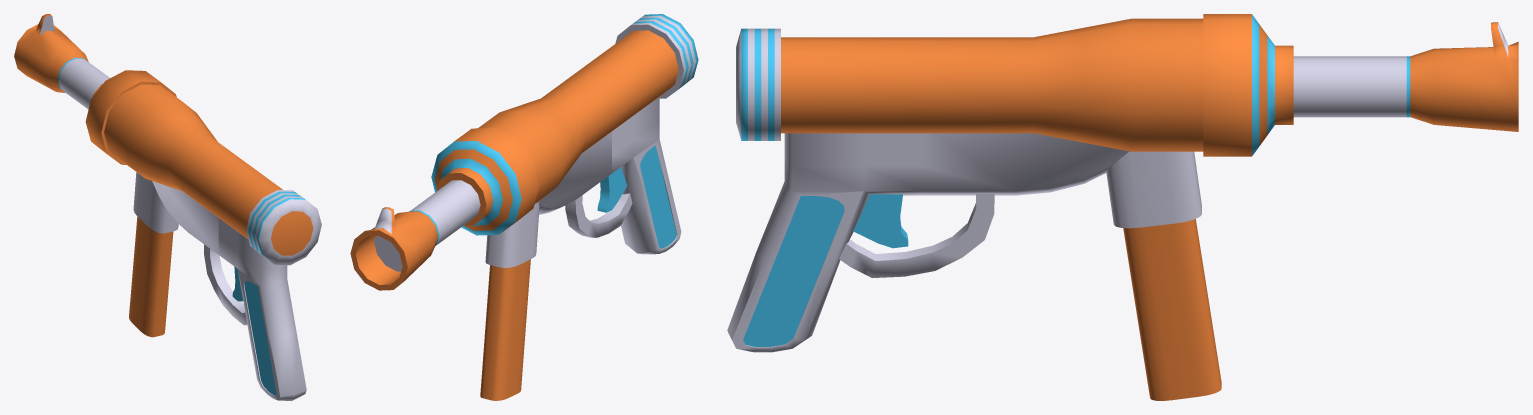
Rendered from Gator Siege_gun2.fbx.
3 renders of one model, left to right at view 1: azimuth 30°, elevation 25°; view 2: azimuth 150°, elevation 25°; view 3: azimuth 270°, elevation 25°, orthographic. The views are drawn at different scales.
Visible parts, largest first — view 1: gun 2; view 2: gun 2; view 3: gun 2.
Boxes of the visible parts, <box> form: gun 2: <box>14,14,321,400</box>; gun 2: <box>350,14,698,400</box>; gun 2: <box>727,14,1518,400</box>.
Size of the model in its own units: 0.0284 by 0.1567 by 0.0819.
